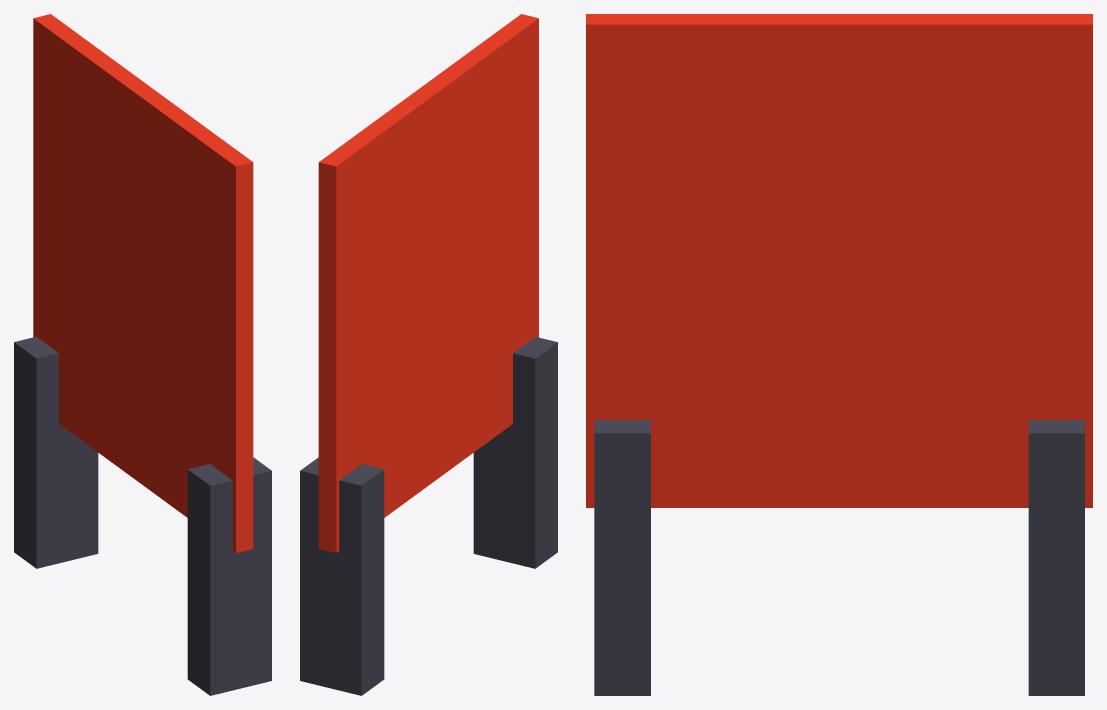
Rendered from DEfSlideBarr.fbx.
3 renders of one model, left to right at view 1: azimuth 30°, elevation 25°; view 2: azimuth 150°, elevation 25°; view 3: azimuth 270°, elevation 25°, orthographic. The views are drawn at different scales.
Visible parts, largest first — view 1: SlideBarrier; view 2: SlideBarrier; view 3: SlideBarrier.
Part boxes in pixels (box(x1,y1,x2,y2)): SlideBarrier: box(14, 14, 271, 695); SlideBarrier: box(300, 14, 557, 695); SlideBarrier: box(586, 14, 1092, 695).
Bounding box in the file's own units: 35.11 × 287 × 200.
Materials: 1 (1 with a texture image).
